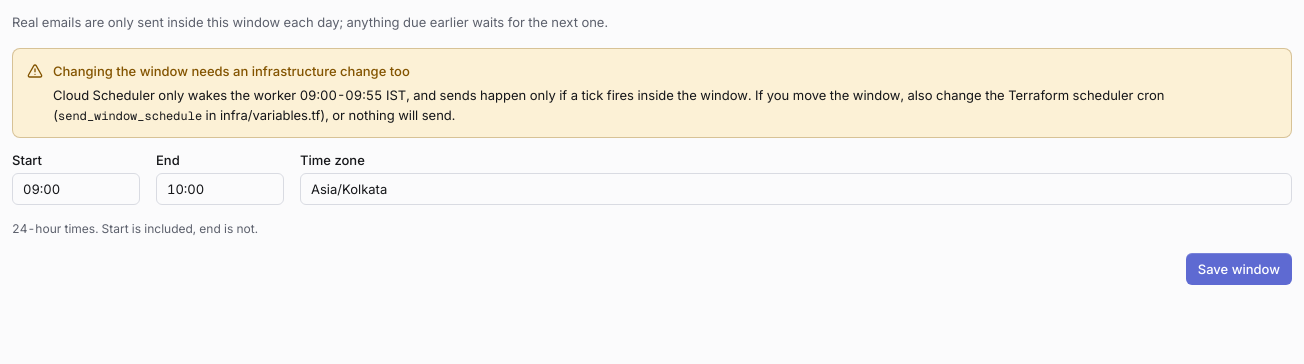
SendWindowForm › saves a valid window with a PUT and confirms
This screenshot has width=1304, height=364.
Type "08:30" into the field labelled "Start".
click(76, 189); type("08:30")  # box [12,173,140,205]
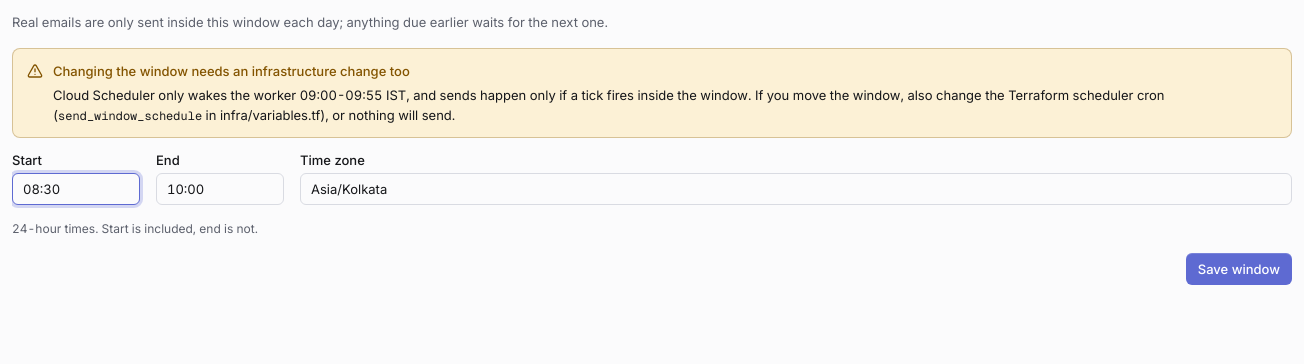
Click the button "Save window".
click(1239, 269)  # box [1186,253,1292,285]
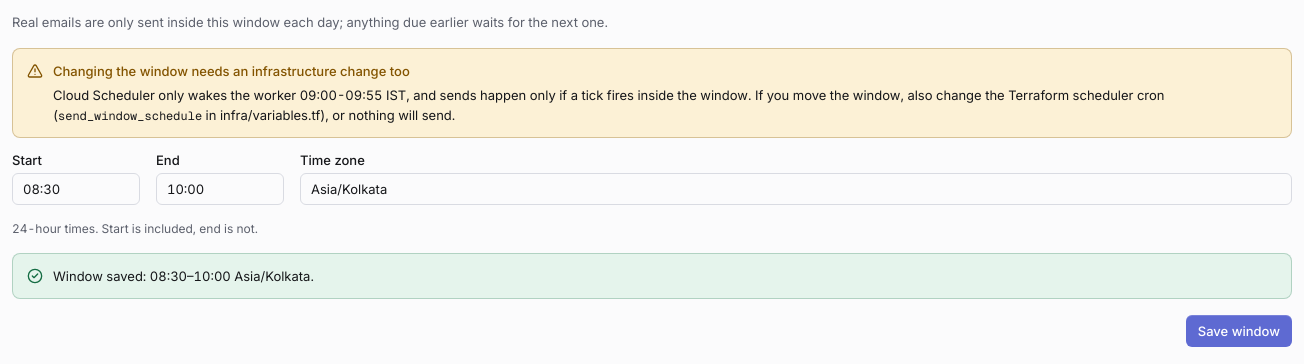
Now the text "Window saved: 08:30–10:00 Asia/Kolkata." is shown, box [53,268,314,284]
